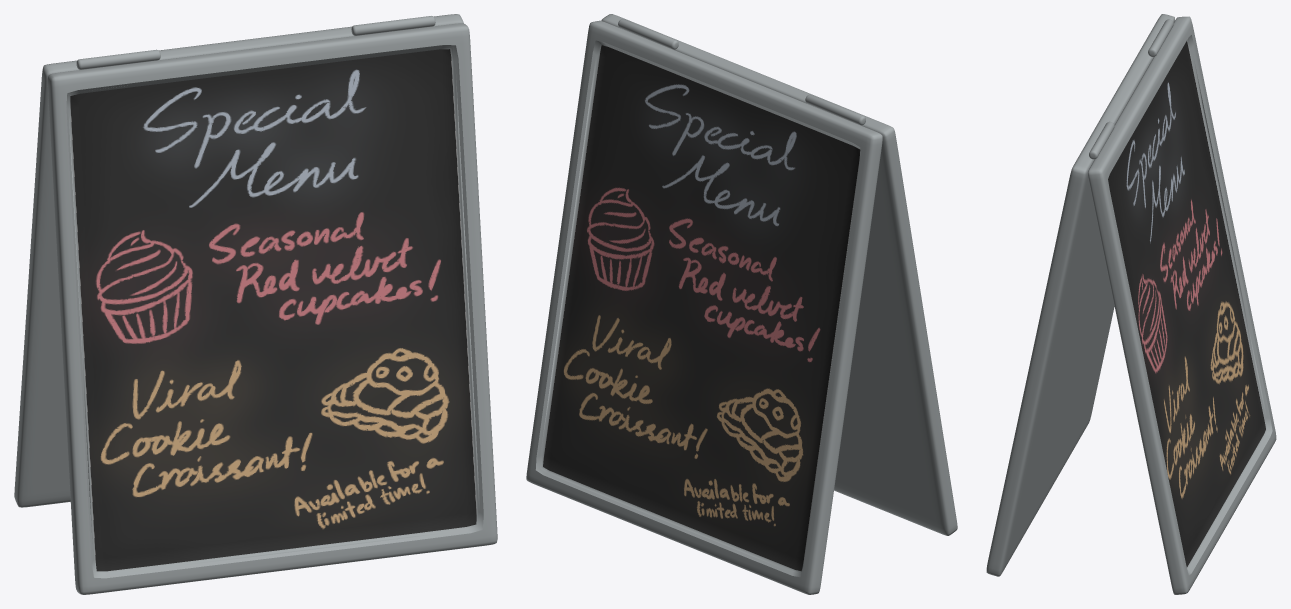
File: menusign.fbx
3 renders of one model, left to right at view 1: azimuth 30°, elevation 25°; view 2: azimuth 150°, elevation 25°; view 3: azimuth 270°, elevation 25°, orthographic. The views are drawn at different scales.
Visible parts, largest first — view 1: sign.001; view 2: sign.001; view 3: sign.001.
Part boxes in pixels (left/top/right/bottom): sign.001: left=14, top=14, right=497, bottom=594; sign.001: left=526, top=14, right=957, bottom=594; sign.001: left=986, top=14, right=1276, bottom=594.
Bounding box in the file's own units: 94.87 × 107 × 66.05.
